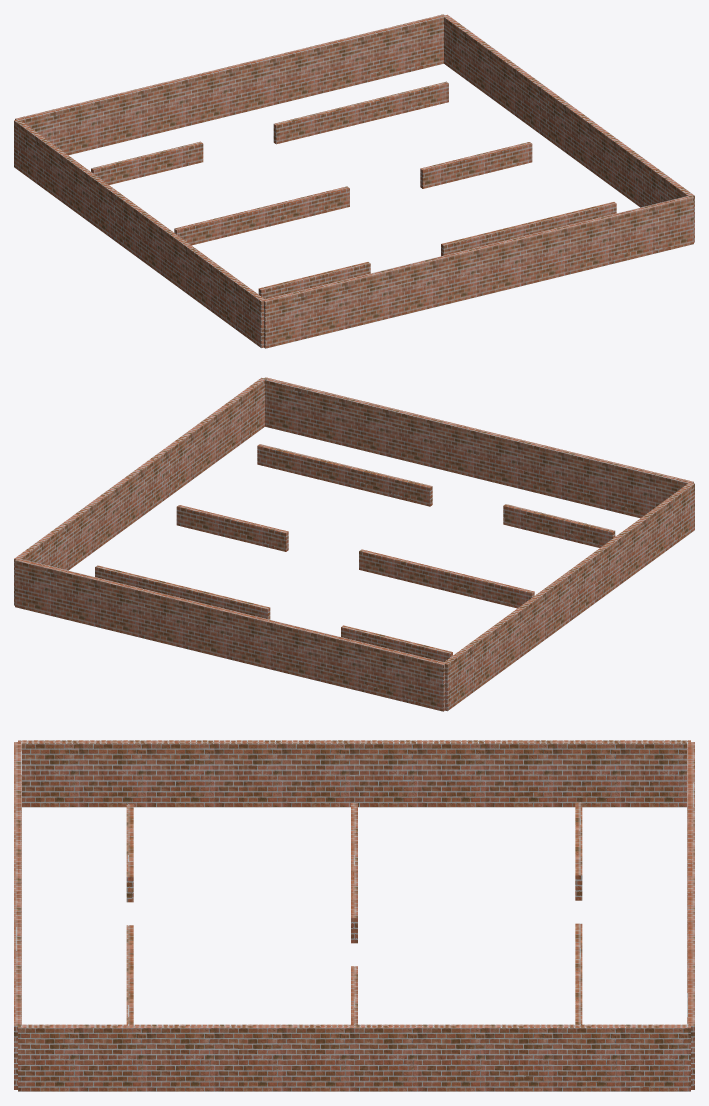
The model's file is wall.obj.
3 renders of one model, top to bottom at view 1: azimuth 30°, elevation 25°; view 2: azimuth 150°, elevation 25°; view 3: azimuth 270°, elevation 25°, orthographic. The views are drawn at different scales.
Visible parts, largest first — view 1: pCube7; view 2: pCube7; view 3: pCube7.
Boxes of the visible parts, left/top/right/bottom form: pCube7: left=14, top=14, right=694, bottom=348; pCube7: left=14, top=377, right=694, bottom=711; pCube7: left=14, top=740, right=694, bottom=1091.
Bounding box in the file's own units: 24.29 × 2.5 × 24.29.
Materials: 1 (1 with a texture image).
